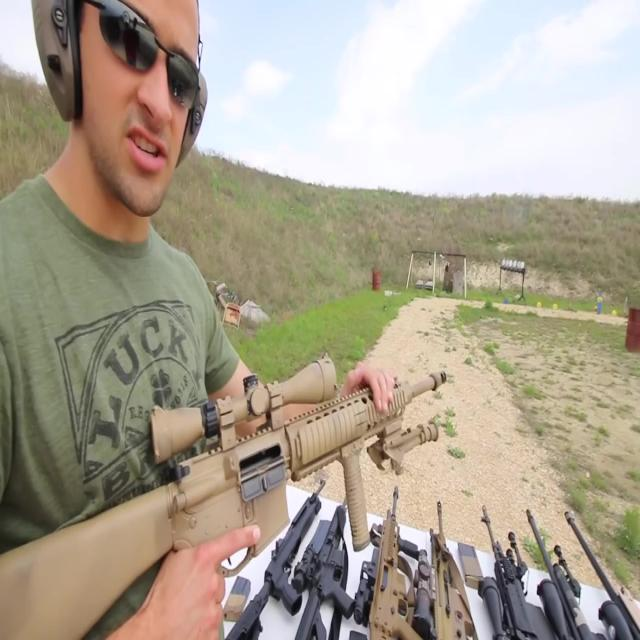Weapon: (13, 332, 453, 622), (212, 448, 636, 640)
